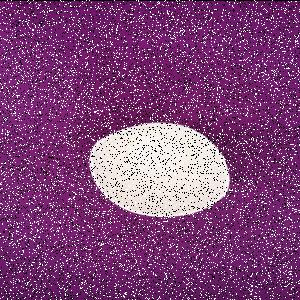Cup: (90, 122, 232, 218)
